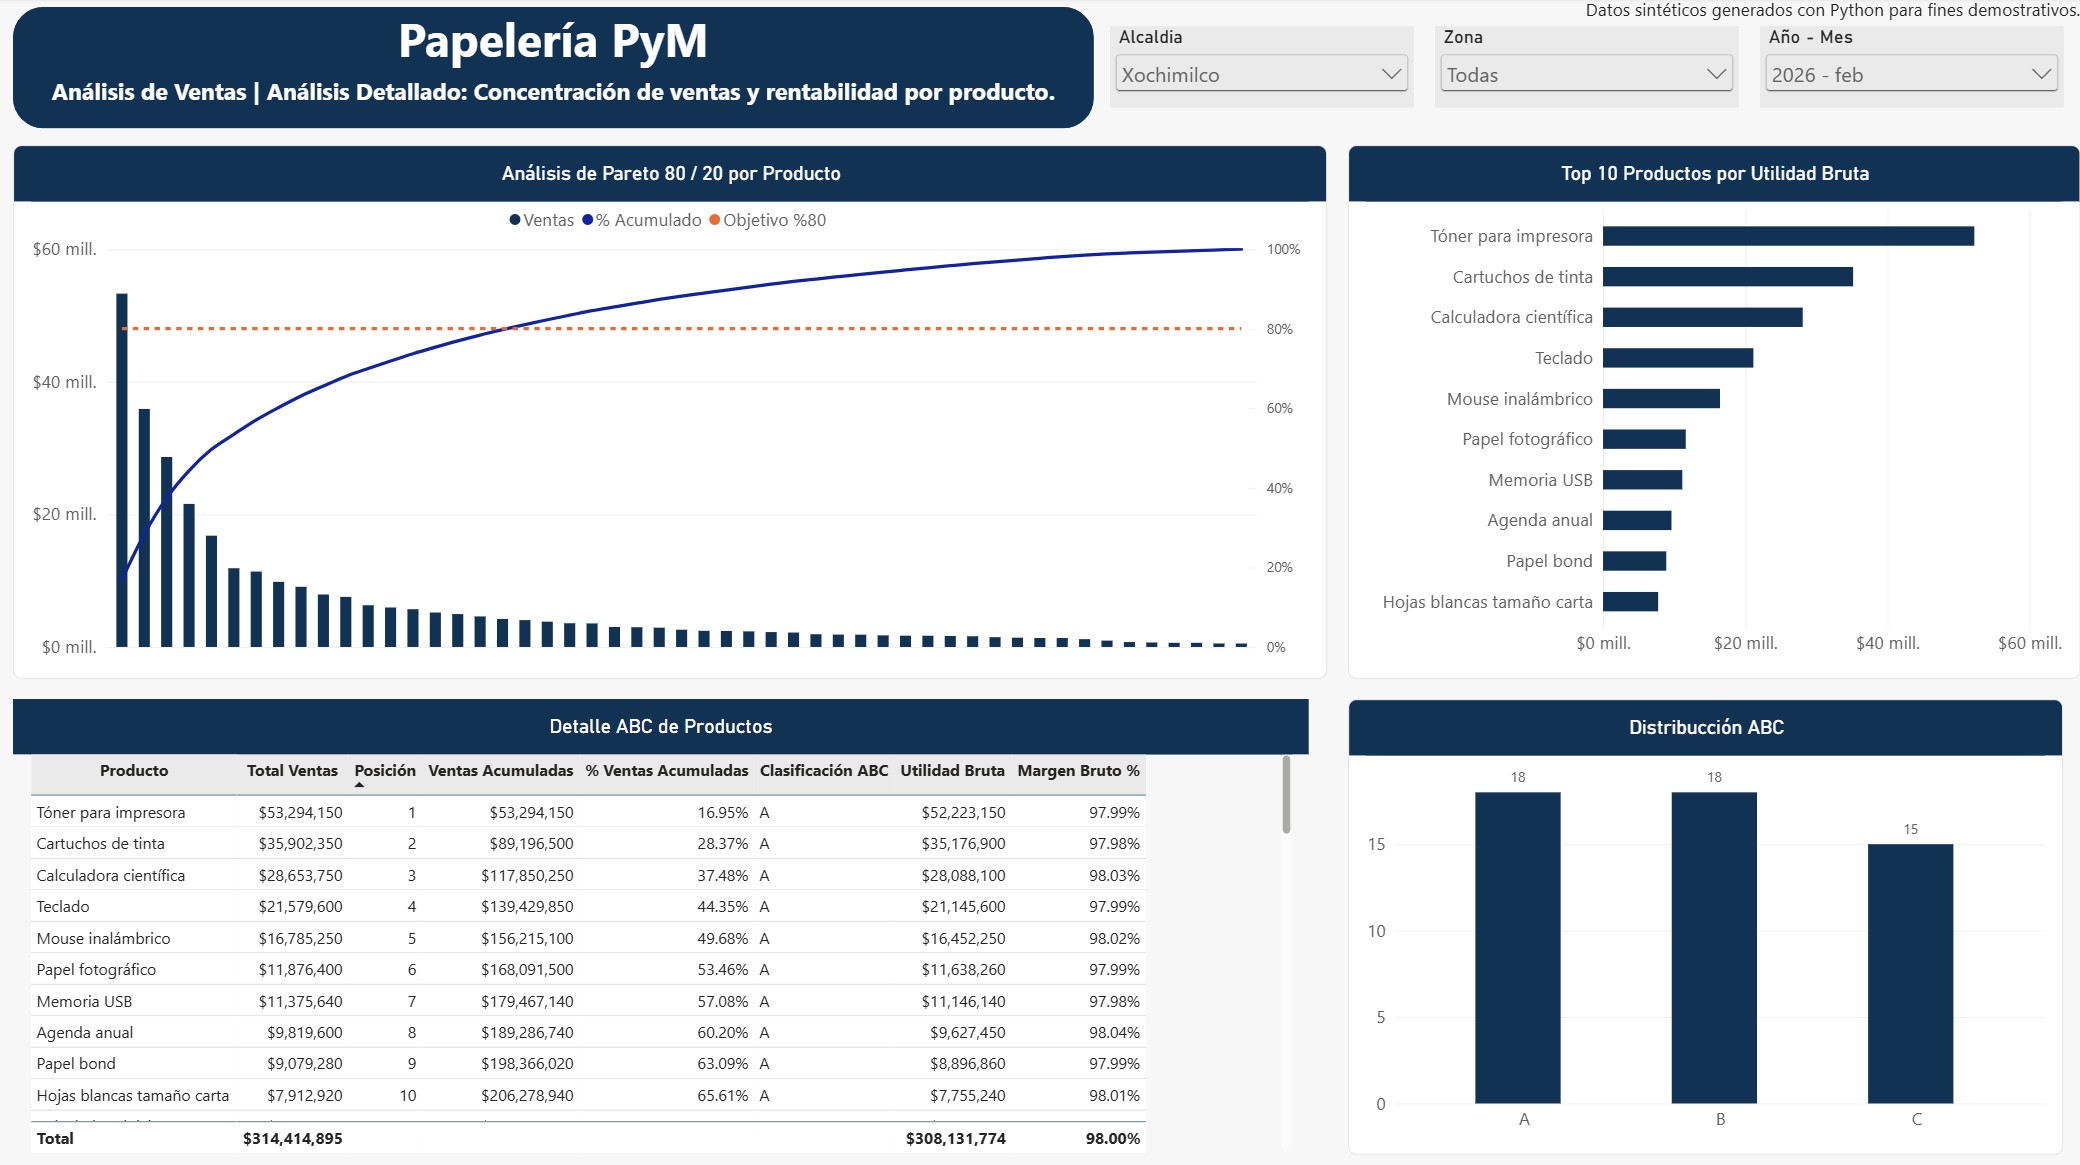

The dashboard page shown, as its layout file describes it:
{"tool":"powerbi","page":{"name":"Análisis Detallado","canvas":[1920,1080],"ordinal":1},"visuals":[{"type":"lineClusteredColumnComboChart","title":"Análisis de Pareto 80 / 20 por Producto","fields":{"Category":["Consol_Ventas.ColProducto"],"Y":["Medidas DAX.01_Ingresos Totales"],"Y2":["Medidas DAX.16_PorcentajeAcumulado","Medidas DAX.Linea Pareto 80"]},"box":[14.4,135.7,1211.4,491.6],"z":0},{"type":"shape","box":[14.4,8,995.9,111.7],"z":2000},{"type":"textbox","box":[14.4,19.2,995.9,100.5],"z":5000},{"type":"slicer","fields":{"Values":["DimFecha.Mes_Anio"]},"box":[1625,25.5,280.1,74.9],"z":6000},{"type":"slicer","fields":{"Values":["Cat_Sucursales.Alcaldia"]},"box":[1025.9,25.5,280.1,74.9],"z":7000},{"type":"slicer","fields":{"Values":["Cat_Sucursales.Zona"]},"box":[1325.4,25.5,280.1,74.9],"z":9000},{"type":"textbox","box":[1413.8,0,506.2,25.5],"z":11000},{"type":"tableEx","title":"Detalle ABC de Productos","fields":{"Values":["Consol_Ventas.ColProducto","Medidas DAX.01_Ingresos Totales","Medidas DAX.14_RankingProducto","Medidas DAX.15_IngresosAcumulados","Medidas DAX.16_PorcentajeAcumulado","Medidas DAX.17_ClasificacionABC","Medidas DAX.12_Utilidad Bruta","Medidas DAX.13_Margen Bruto %"]},"box":[14.4,646.4,1193.8,434.1],"z":12000},{"type":"clusteredBarChart","title":"Top 10 Productos por Utilidad Bruta","fields":{"Category":["Consol_Ventas.ColProducto"],"Y":["Medidas DAX.12_Utilidad Bruta"]},"box":[1244.9,135.7,675.1,491.6],"z":12001},{"type":"clusteredColumnChart","title":"Distribucción ABC","fields":{"Category":["DimABC.Clasificacion"],"Y":["Medidas DAX.Cantidad Productos ABC"]},"box":[1244.9,646.4,659.2,419.8],"z":12003}]}

Visuals, with their boxes in screenshot pixels (x1, y1, x2, y2), scaled from the page's 1920x1080 canvas onto the 2080x1165 screenshot:
"Análisis de Pareto 80 / 20 por Producto" lineClusteredColumnComboChart: x1=16, y1=146, x2=1328, y2=677
shape: x1=16, y1=9, x2=1094, y2=129
textbox: x1=16, y1=21, x2=1094, y2=129
slicer - DimFecha.Mes_Anio: x1=1760, y1=28, x2=2064, y2=108
slicer - Cat_Sucursales.Alcaldia: x1=1111, y1=28, x2=1415, y2=108
slicer - Cat_Sucursales.Zona: x1=1436, y1=28, x2=1739, y2=108
textbox: x1=1532, y1=0, x2=2079, y2=28
"Detalle ABC de Productos" tableEx: x1=16, y1=697, x2=1309, y2=1164
"Top 10 Productos por Utilidad Bruta" clusteredBarChart: x1=1349, y1=146, x2=2079, y2=677
"Distribucción ABC" clusteredColumnChart: x1=1349, y1=697, x2=2063, y2=1150
